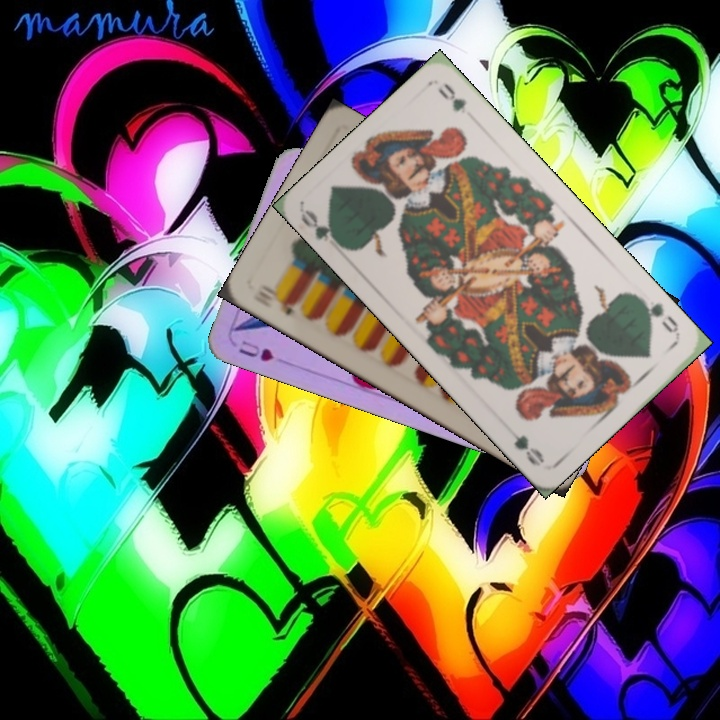E10: (254, 287, 298, 318)
GO: (297, 206, 349, 252), (636, 294, 682, 341)
HU: (235, 336, 277, 365)
